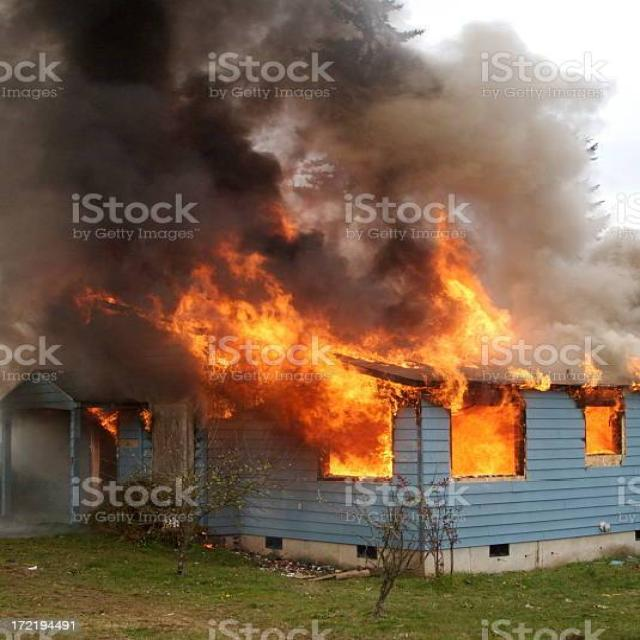Fire: (398, 213, 552, 400), (180, 252, 324, 407), (328, 354, 396, 480), (449, 402, 522, 478), (582, 381, 626, 464), (86, 402, 154, 441)
Smoke: (5, 4, 603, 211), (7, 221, 174, 394), (561, 215, 640, 378)
